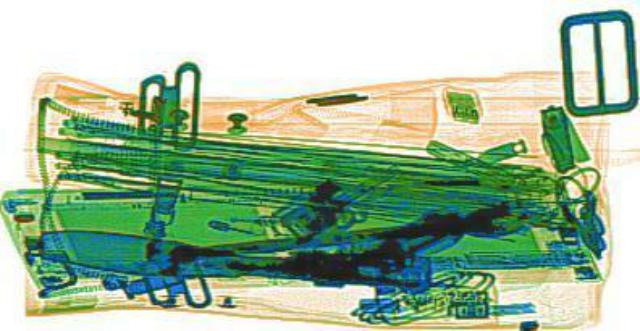Knife: (27, 222, 401, 289)
